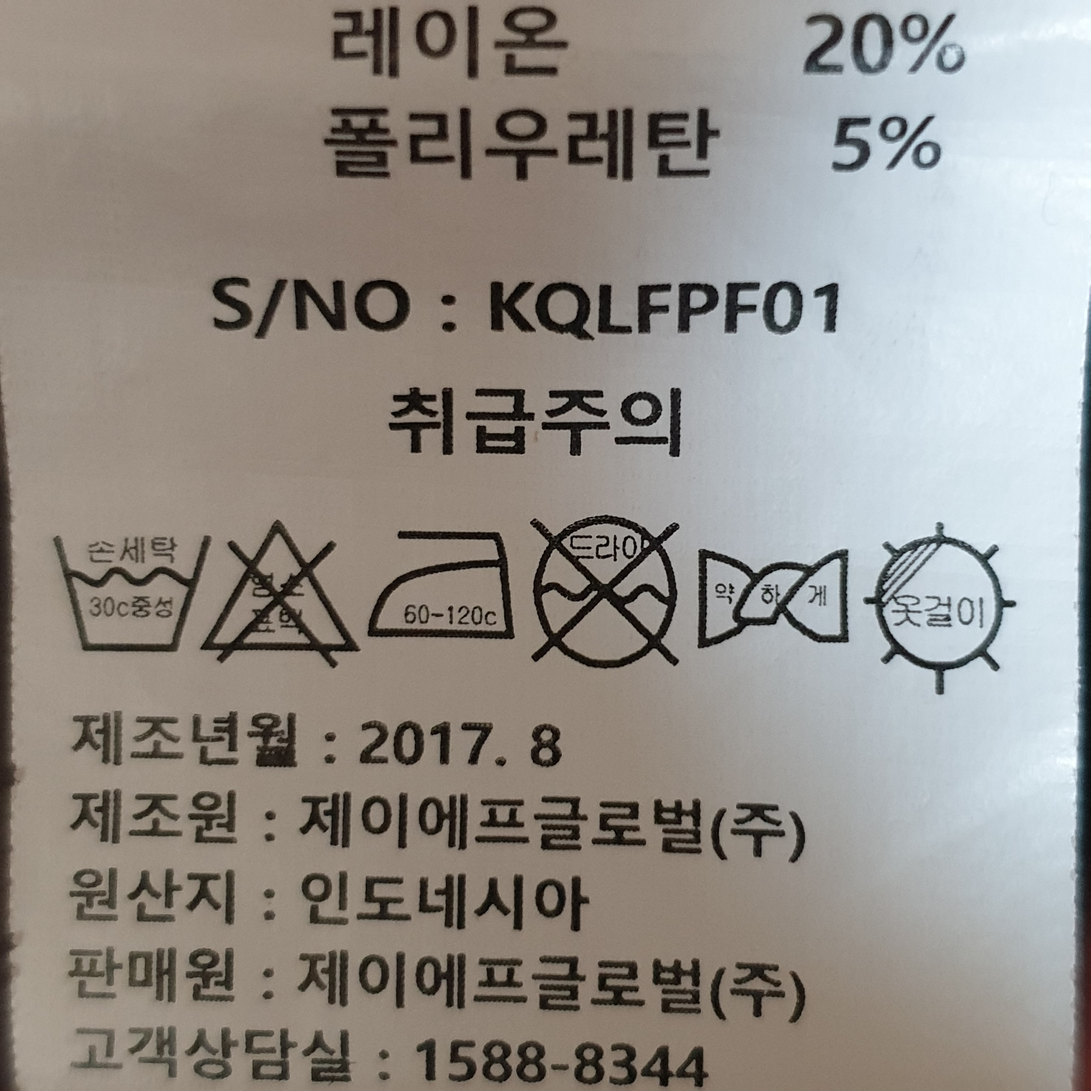KR_flat_dry_in_shade: (859, 526, 1020, 690)
KR_gentle_wring: (691, 531, 854, 659)
KR_hand_wash_30_neutral: (49, 505, 199, 657)
KR_iron_low_temp: (367, 514, 516, 657)
KR_no_chlorine_bleach: (203, 511, 362, 662)
KR_no_dry_clean: (526, 509, 691, 677)
